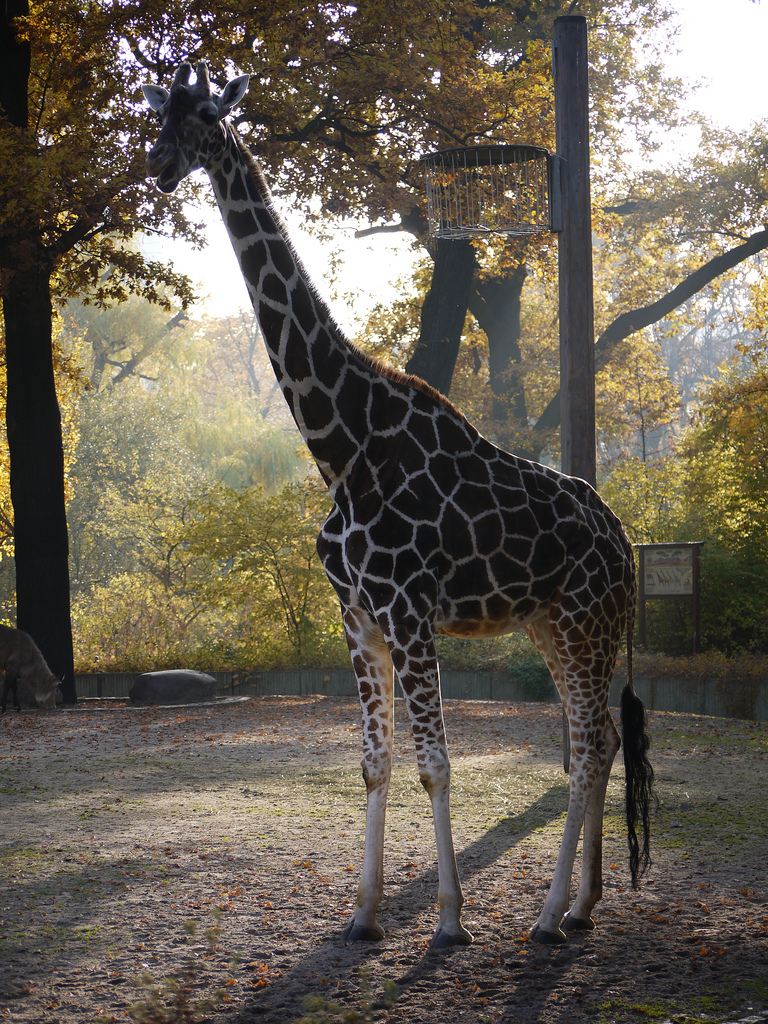giraffe: (111, 40, 695, 946)
